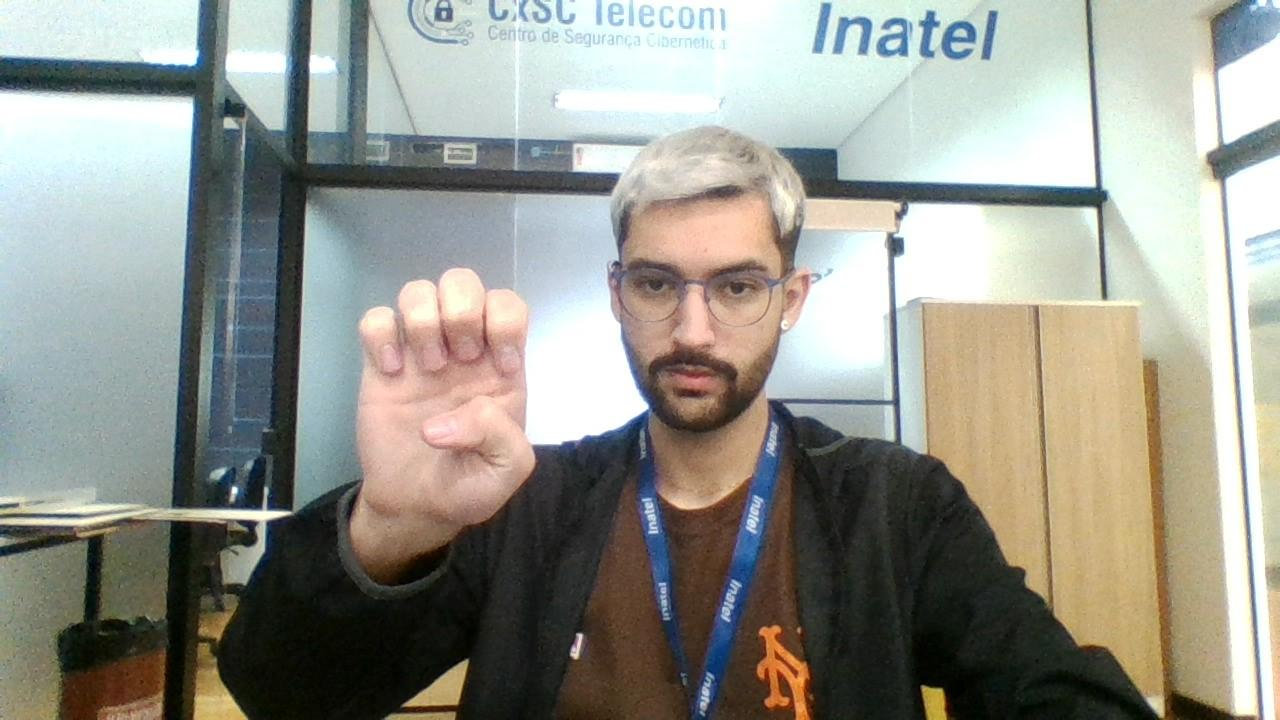E: (344, 264, 544, 536)
